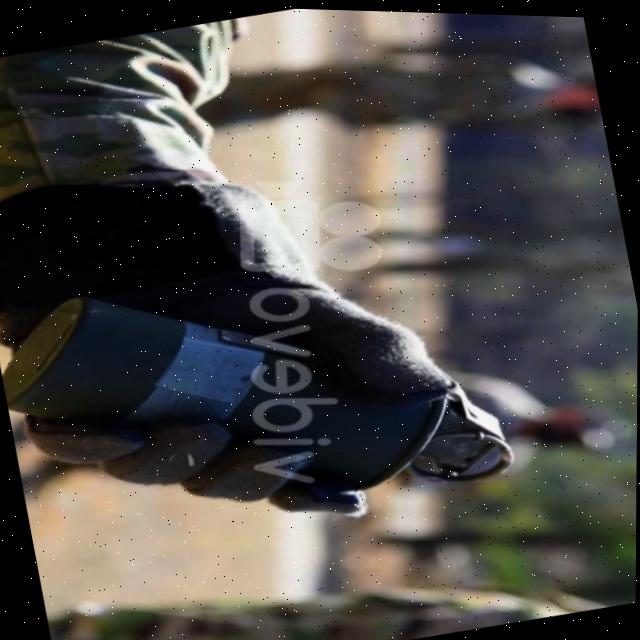grenade: (0, 201, 546, 583)
